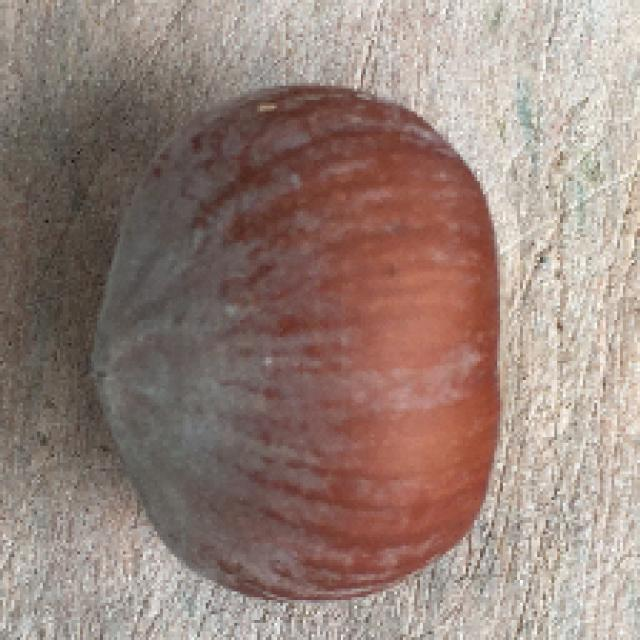qualityHazelnut: (87, 78, 515, 610)
